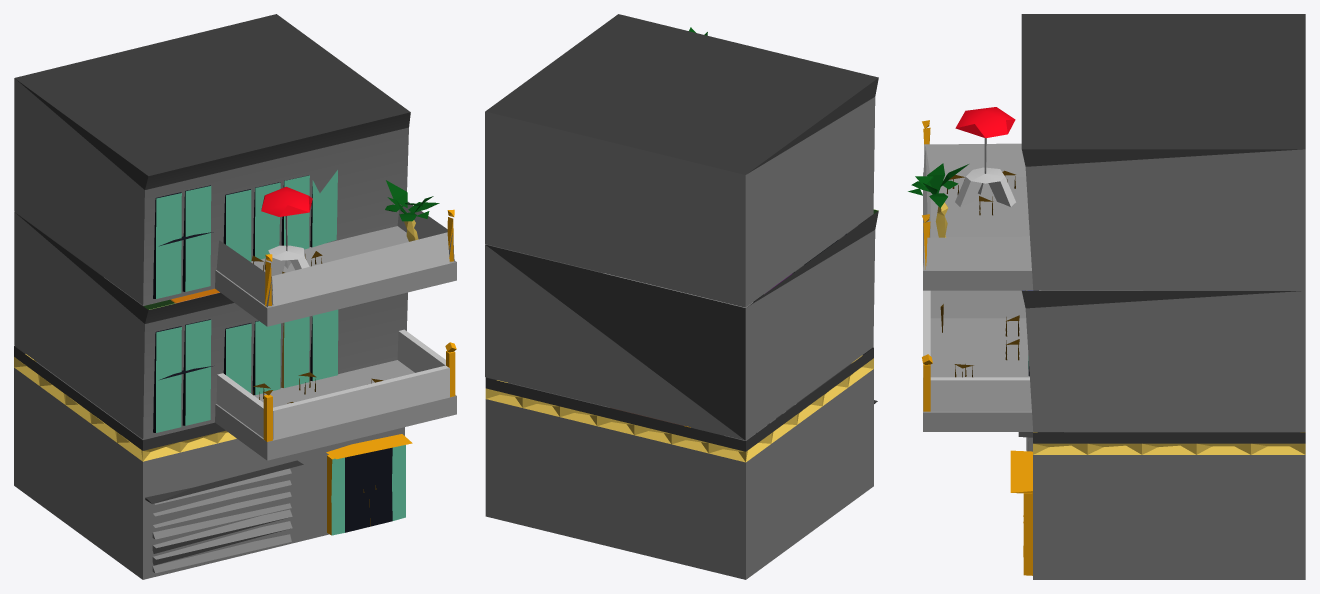
Rendered from PredioCentroCinzaLOD2.fbx.
3 views of the same model, side by side, from view 1: azimuth 30°, elevation 25°; view 2: azimuth 150°, elevation 25°; view 3: azimuth 270°, elevation 25° (orthographic). The views are drawn at different scales.
Visible parts, largest first — view 1: PredioFundacaoLOD2.003, Andar2LOD2.003, Andar1LOD2.003, GaragemLOD2.003; view 2: PredioFundacaoLOD2.003; view 3: PredioFundacaoLOD2.003, Andar2LOD2.003, Andar1LOD2.003.
Boxes of the visible parts, x1,y1,x2,y2 form: PredioFundacaoLOD2.003: (14,14,412,579); Andar2LOD2.003: (215,180,456,326); Andar1LOD2.003: (215,329,456,460); GaragemLOD2.003: (145,460,303,573); PredioFundacaoLOD2.003: (485,14,878,579); PredioFundacaoLOD2.003: (940,14,1305,579); Andar2LOD2.003: (908,107,1142,290); Andar1LOD2.003: (922,290,1040,431).
Bounding box in the file's own units: 782 × 1161 × 970.
1 material, 1 textured.
